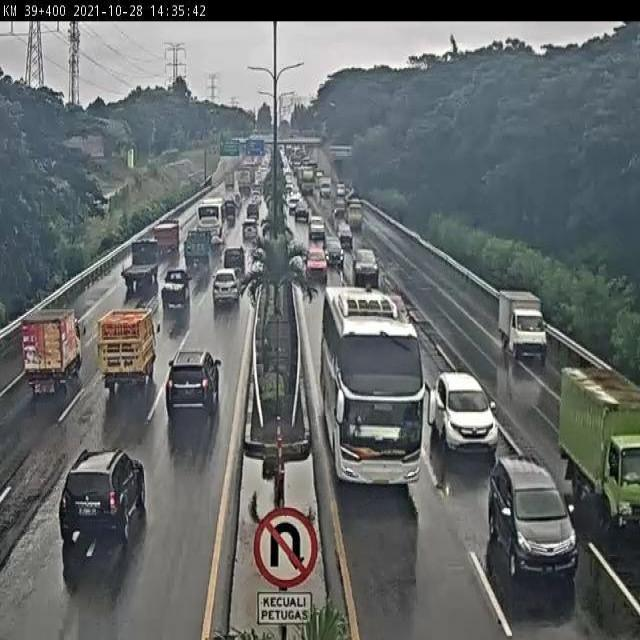big bus: (319, 287, 429, 488), (197, 199, 228, 244)
big truck: (237, 171, 253, 193)
car: (490, 456, 578, 577), (58, 450, 147, 546), (433, 372, 497, 449), (497, 290, 548, 358), (166, 351, 219, 416), (161, 269, 190, 315), (213, 269, 240, 307), (350, 248, 378, 283), (304, 247, 327, 276), (223, 247, 245, 272), (324, 236, 344, 263), (385, 289, 402, 312), (308, 216, 325, 237), (242, 220, 259, 240), (336, 222, 352, 242), (294, 204, 308, 220), (246, 204, 260, 219), (228, 194, 241, 210), (250, 192, 261, 205)
small truck: (559, 368, 640, 525), (97, 309, 157, 392), (21, 310, 83, 390), (120, 239, 161, 285), (184, 231, 213, 268), (153, 219, 179, 252), (345, 196, 365, 227), (222, 202, 236, 226)
